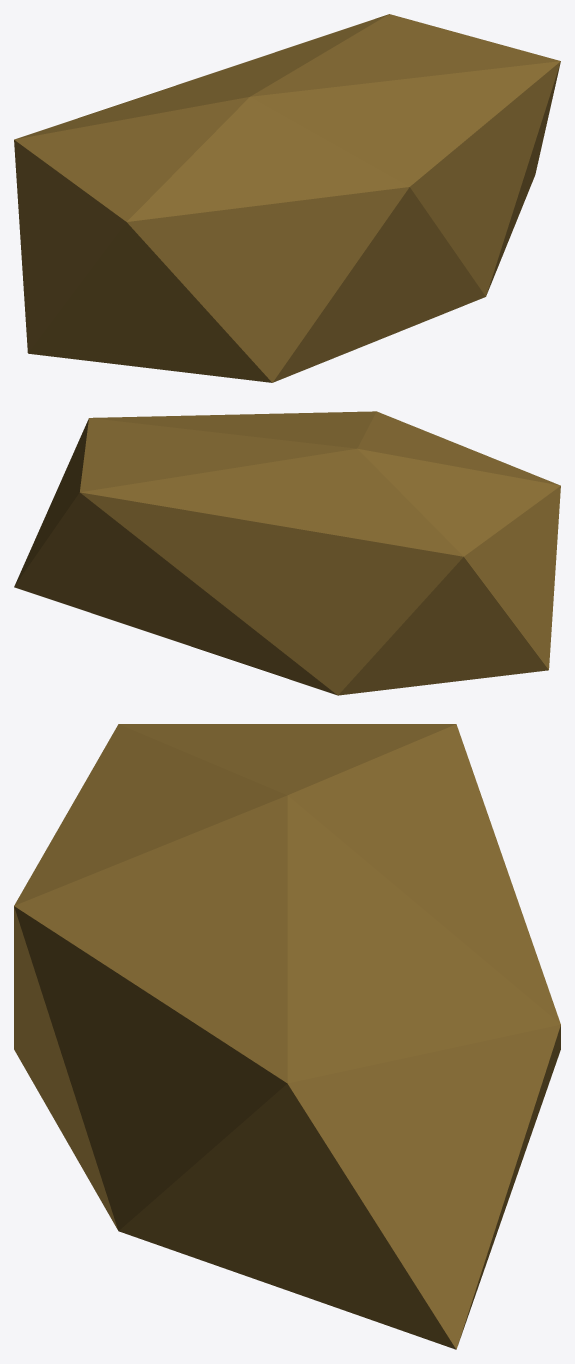
Rendered from small-brown-rock.fbx.
3 renders of one model, top to bottom at view 1: azimuth 30°, elevation 25°; view 2: azimuth 150°, elevation 25°; view 3: azimuth 270°, elevation 25°, orthographic. The views are drawn at different scales.
Visible parts, largest first — view 1: Icosphere.009; view 2: Icosphere.009; view 3: Icosphere.009.
Part boxes in pixels (<box>): Icosphere.009: <box>14,14,560,382</box>; Icosphere.009: <box>14,411,560,695</box>; Icosphere.009: <box>14,724,560,1349</box>.
Size of the model in its own units: 189 by 80.88 by 106.
